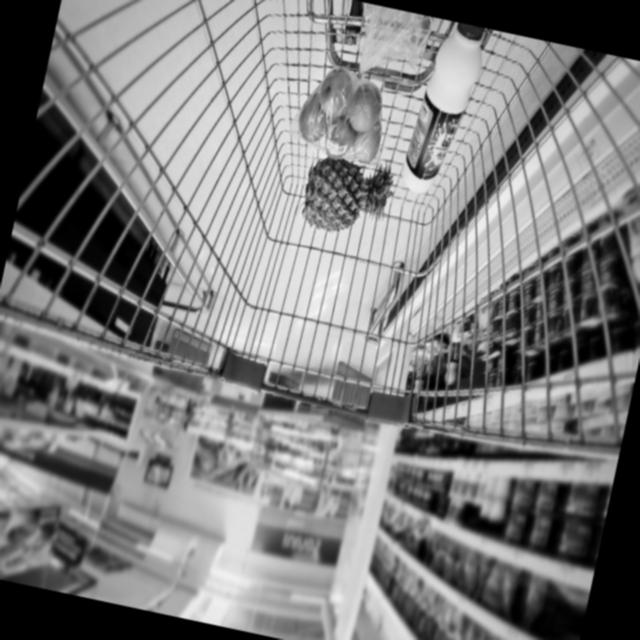apple: (286, 62, 395, 170)
milk: (395, 17, 492, 204)
pineapple: (296, 148, 400, 245)
